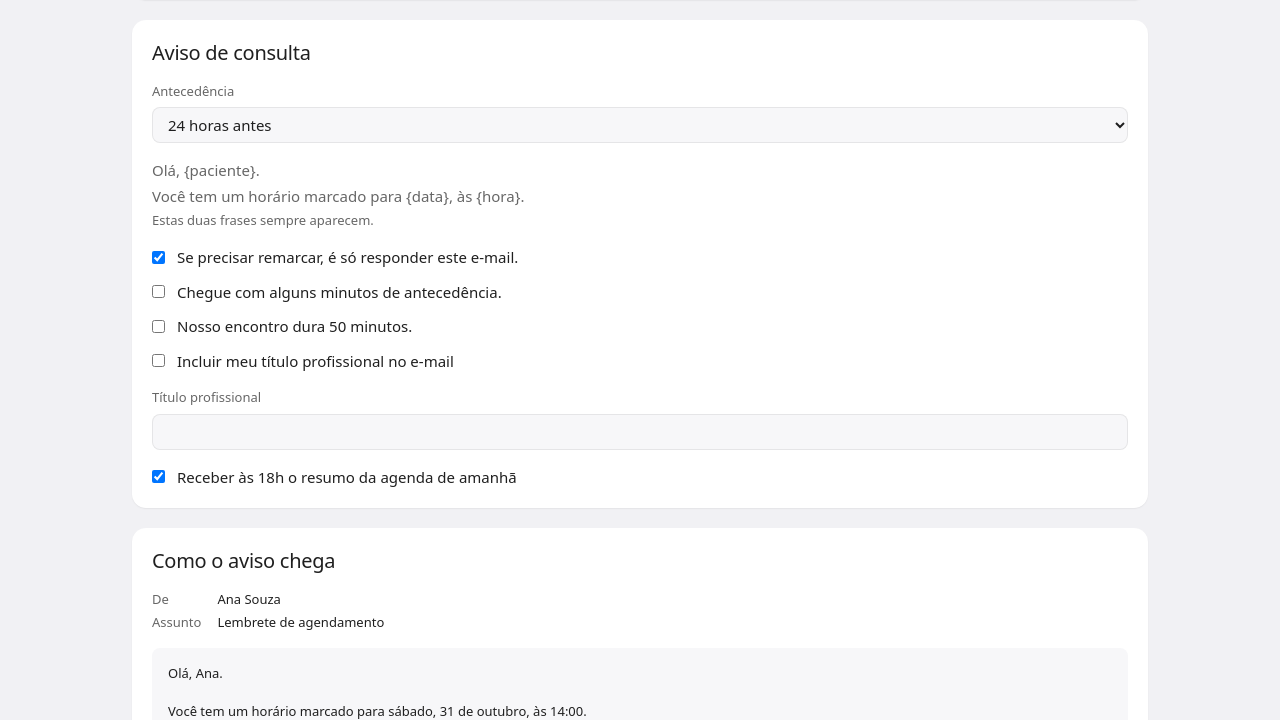
Test: AjustesPage › exige o titulo com a caixa ligada, no cliente, sem enviar
(page scrolled)
Click the checkbox labelled "Incluir meu título profissional no e-mail" at (158, 361), box [152,354,165,367]
(page scrolled)
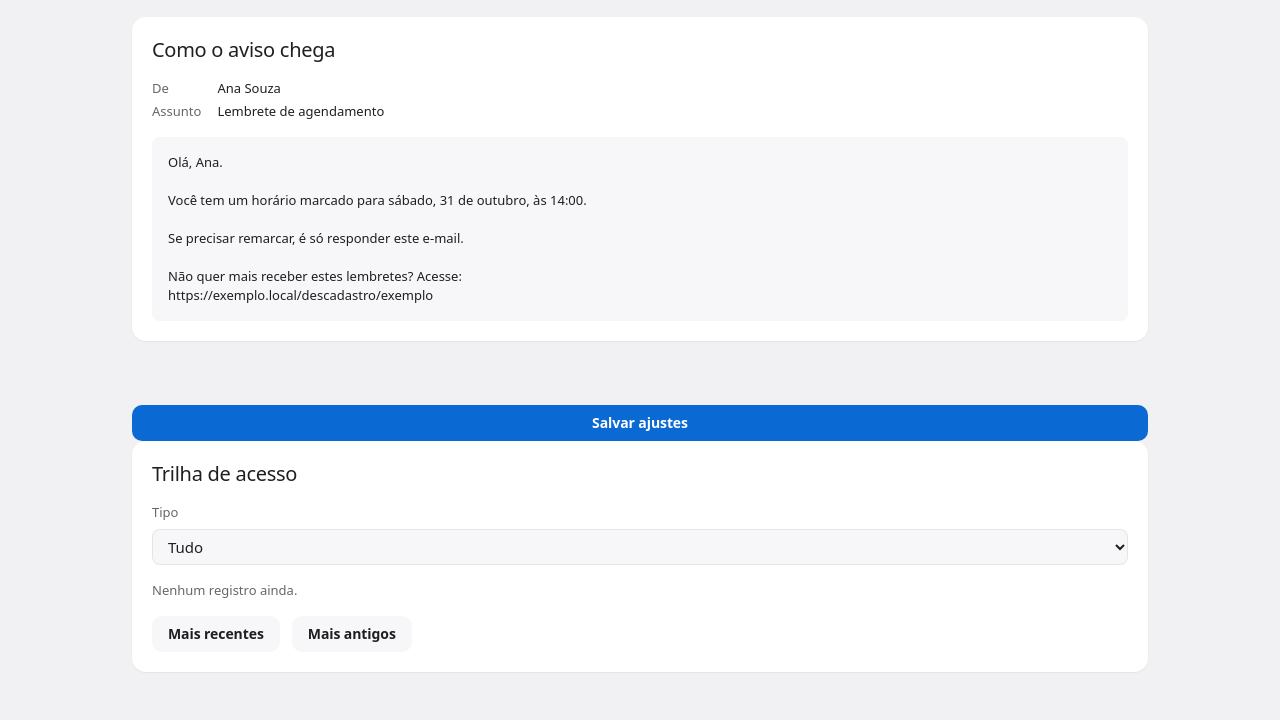
Click the button "Salvar ajustes" at (640, 423), box [132,405,1148,441]
(page scrolled)
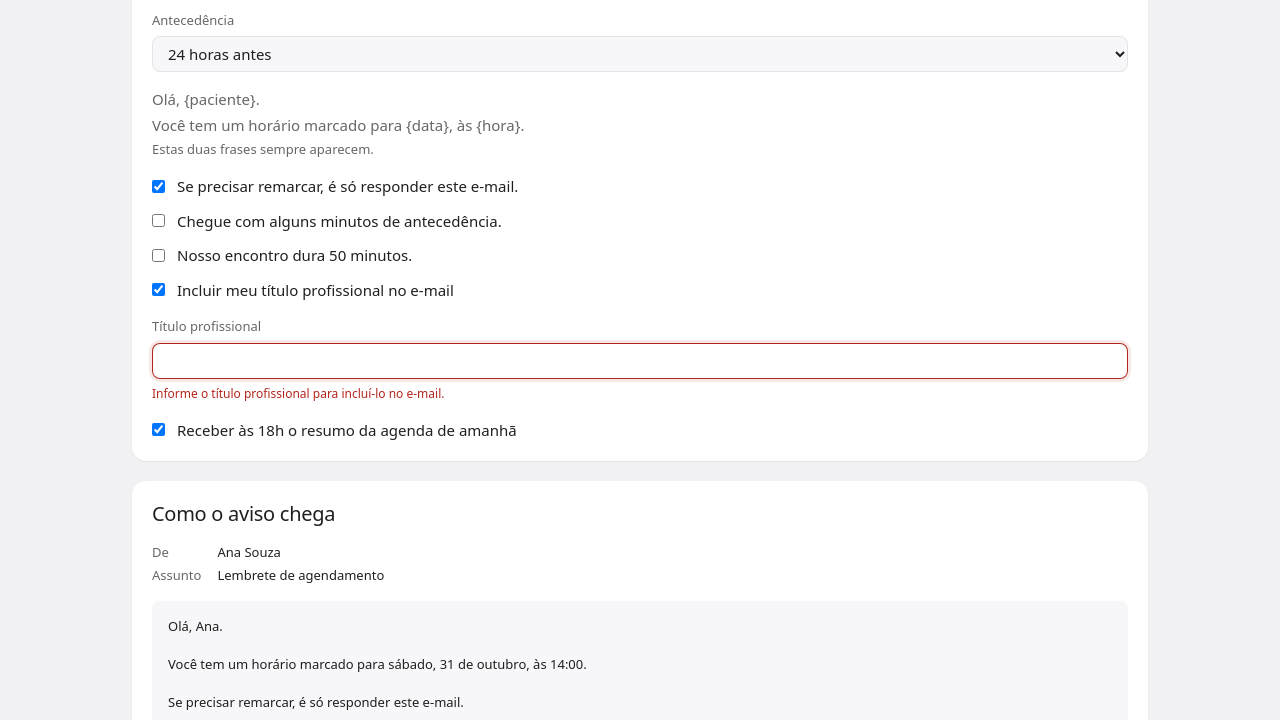
Expected: the text "Informe o título profissional para incluí-lo no e-mail." is shown, [152,384,444,402]
